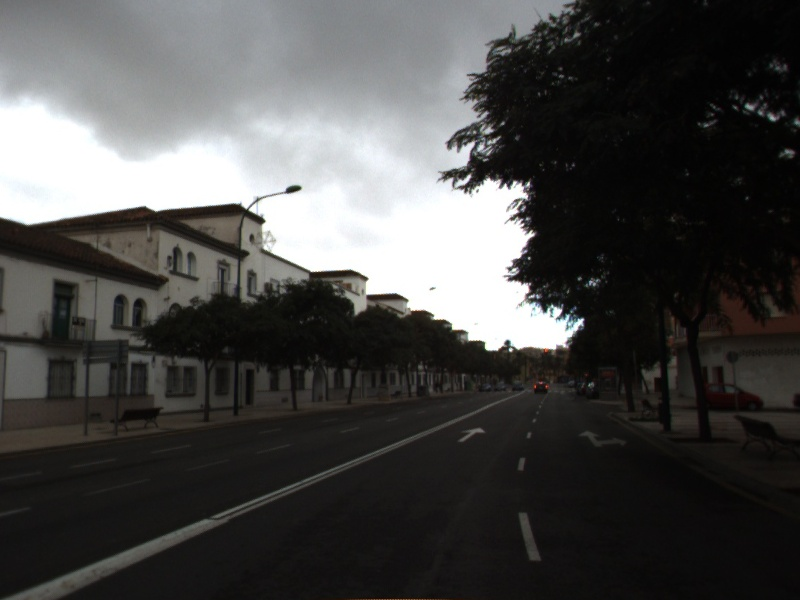STRAIGHT: (456, 425, 488, 443)
STRAIGHT_RIGHT: (577, 429, 628, 448)
